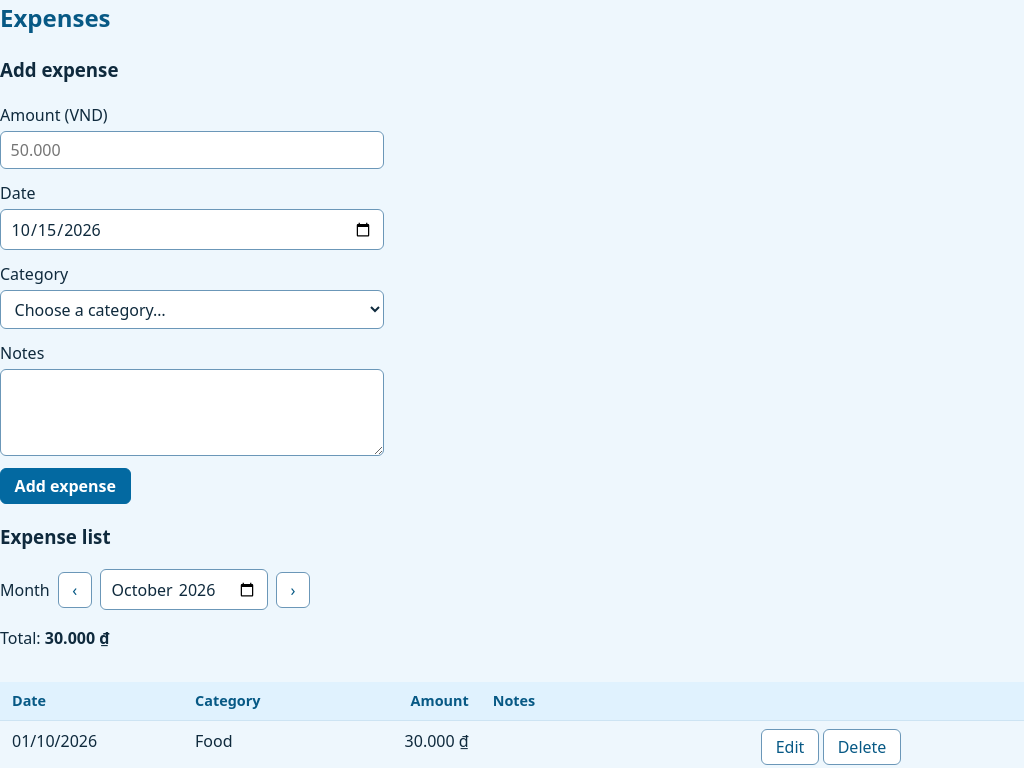
Test: deletes an expense after confirmation, including one being edited
What coordinates should you click on to do the following:
click the button with aria-label "Edit Food"
I would click on:
 (790, 747)
Its box is [761,729,819,765].
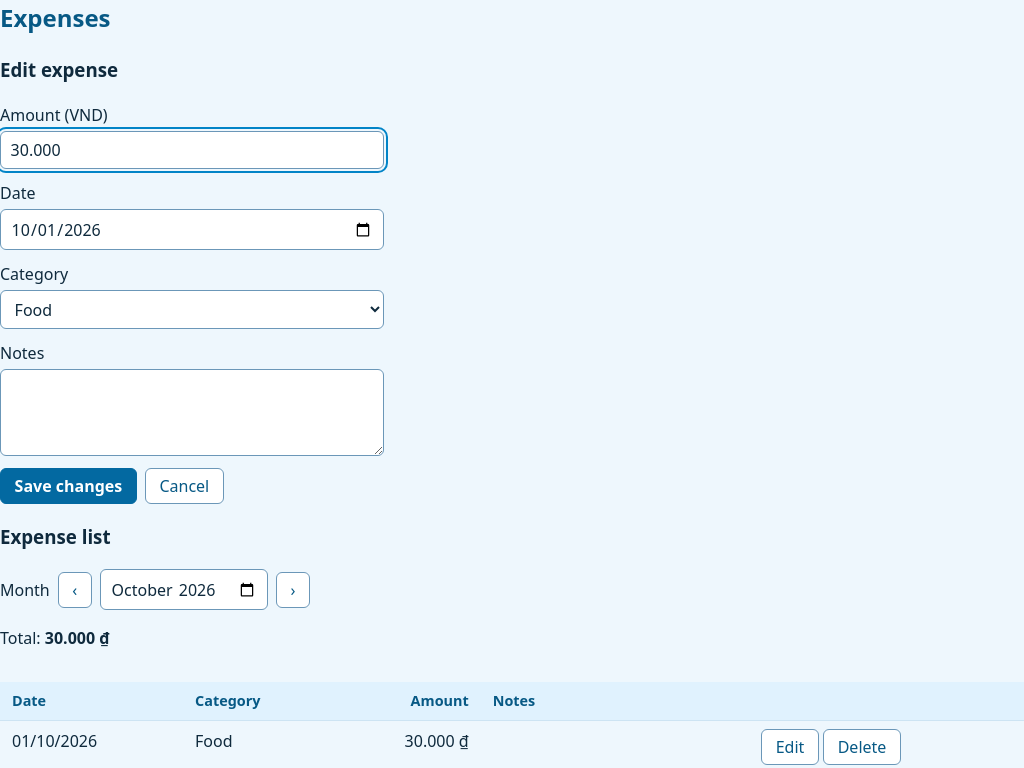
What coordinates should you click on to do the following:
click the button with aria-label "Delete Food"
I would click on:
 (862, 747)
Its box is [823,729,901,765].
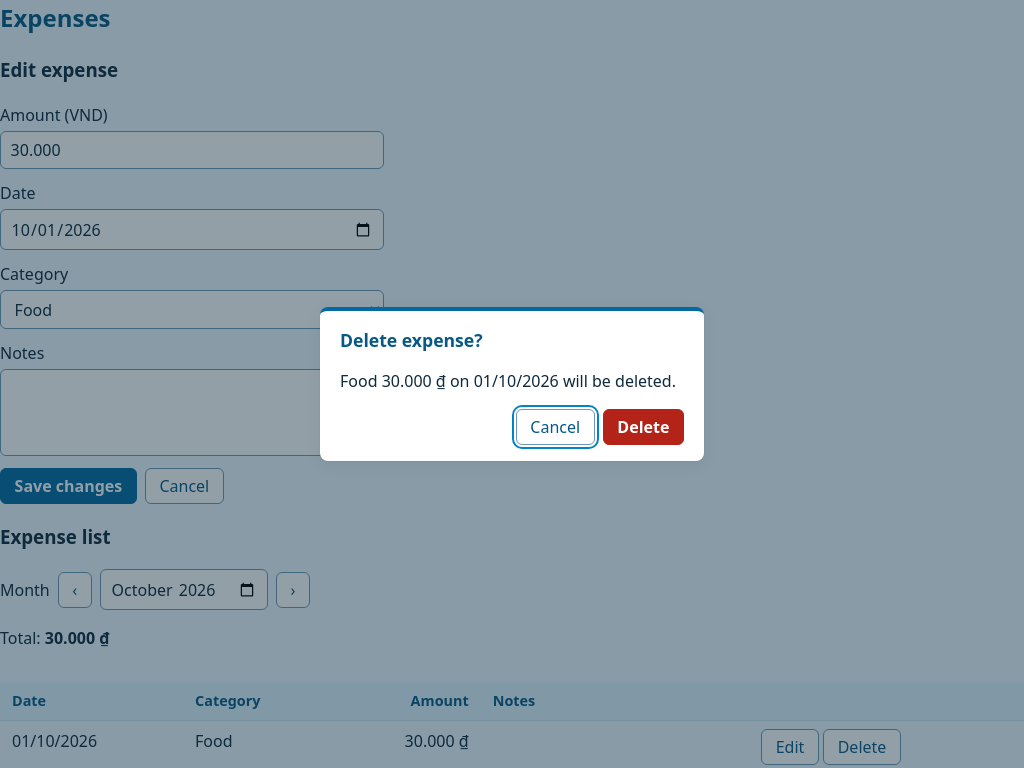
What coordinates should you click on to do the following:
click the button "Delete"
I would click on:
 (643, 427)
Its box is [603,409,684,445].
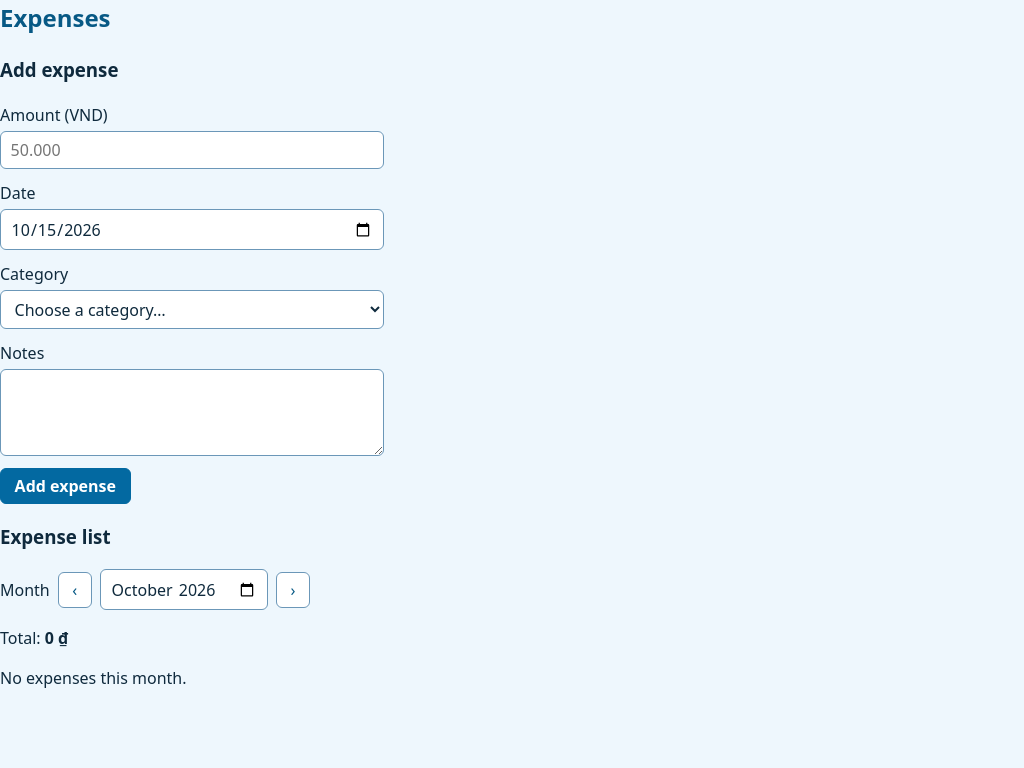
Expected: the text "No expenses this month." is shown, [0,667,186,689]
